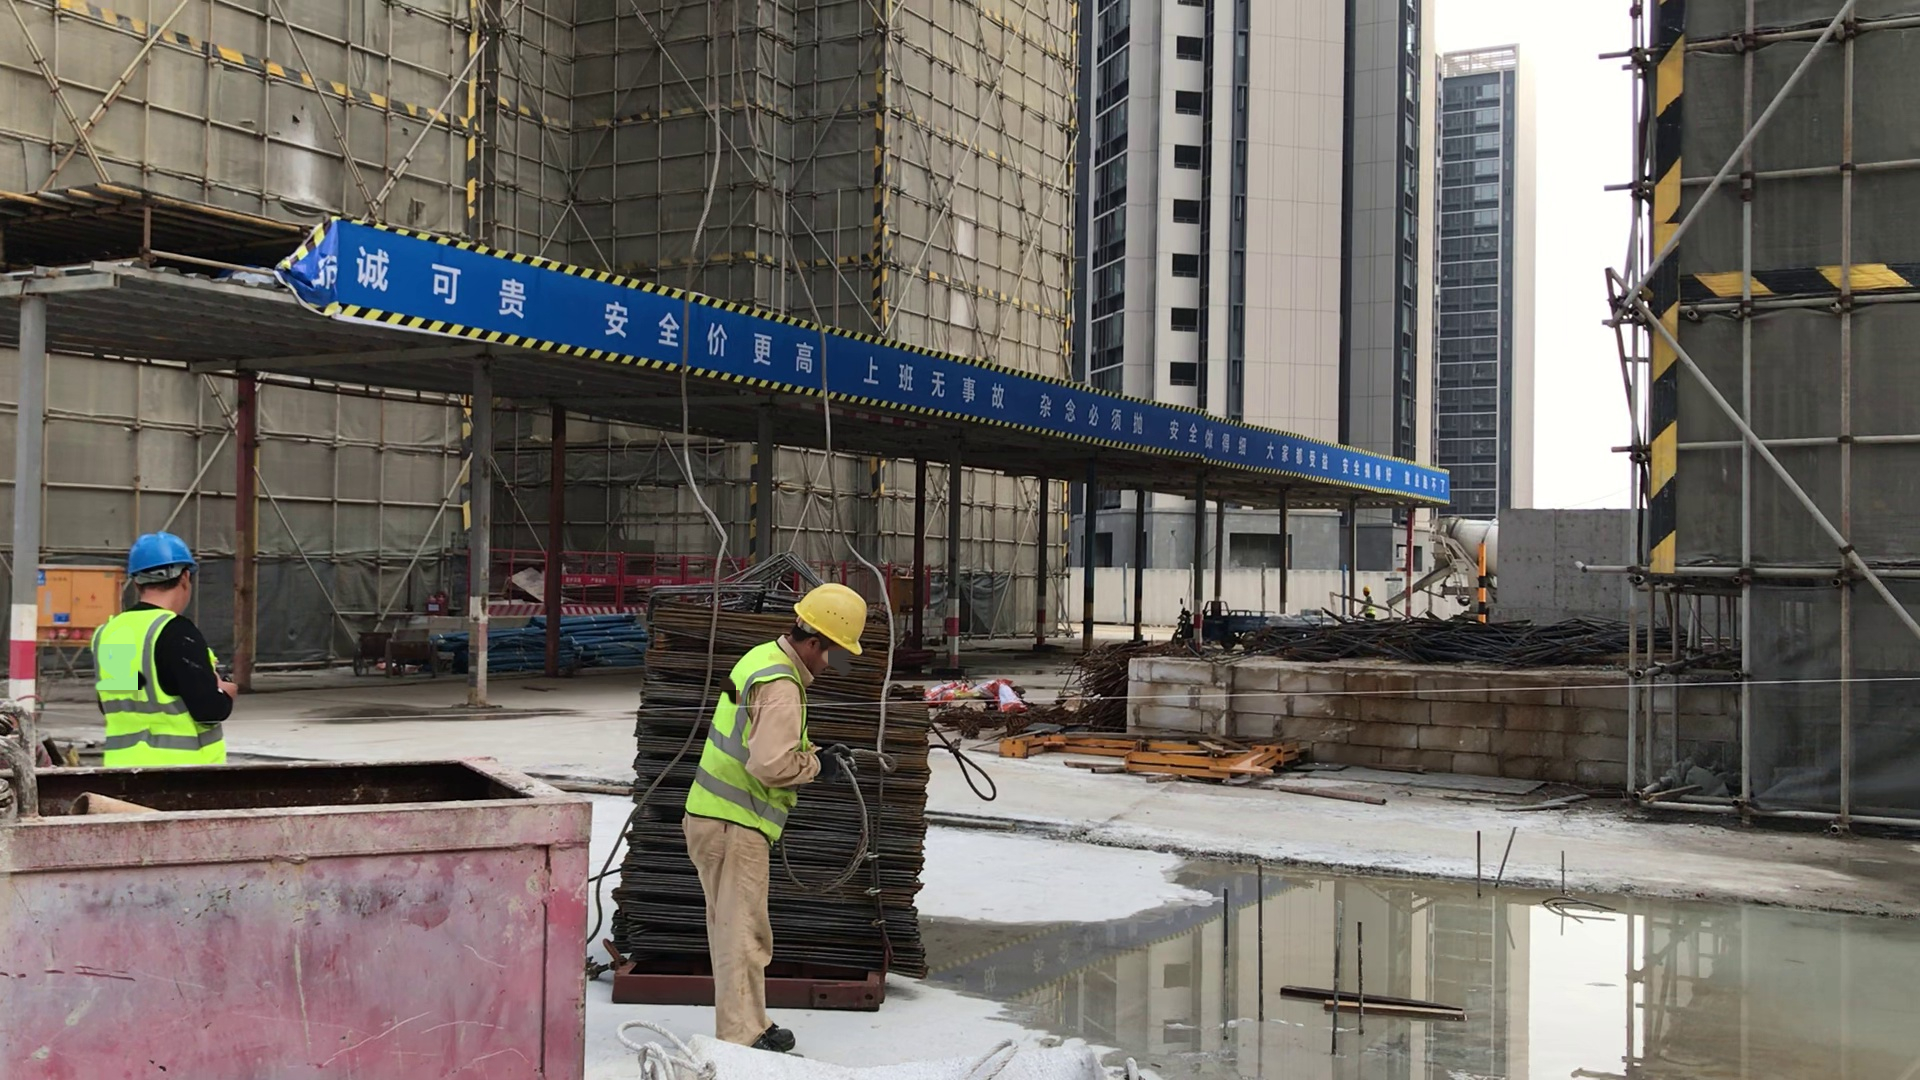handcart: (354, 614, 440, 683)
helmet: (793, 574, 880, 659), (114, 527, 213, 578)
person: (678, 559, 865, 1041), (84, 517, 242, 764)
slogan: (355, 233, 1445, 500)
vest: (85, 606, 238, 768), (704, 643, 820, 829)
